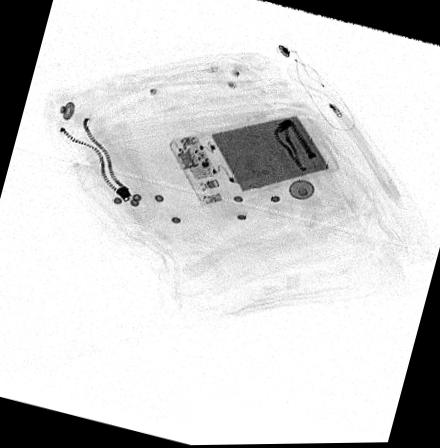Powerbank: (167, 112, 340, 209)
